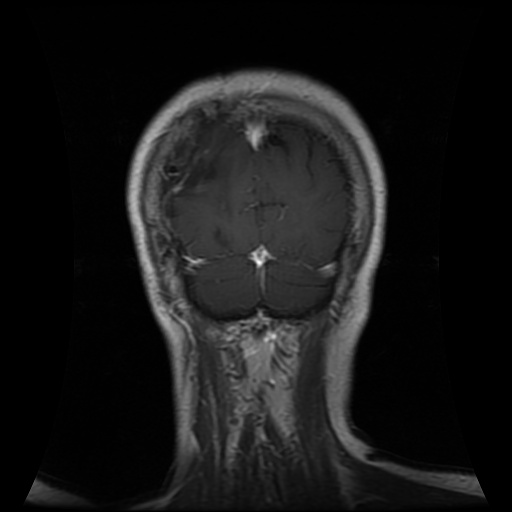glioma: (166, 126, 225, 197)
